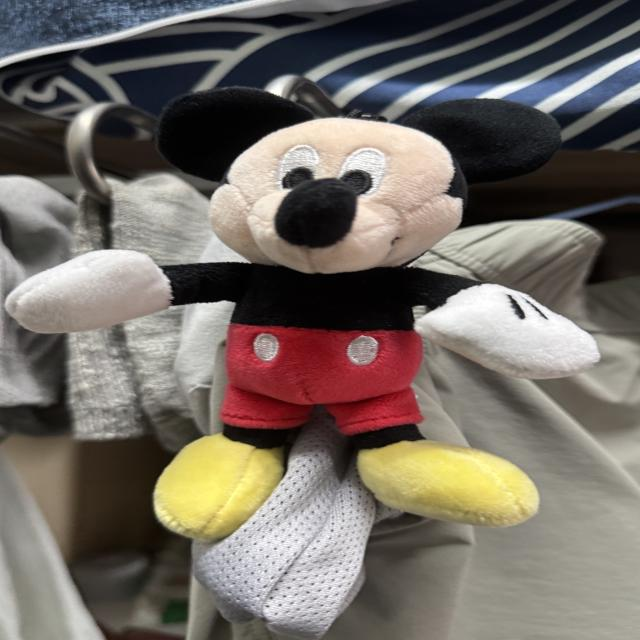mickey: (7, 88, 598, 540)
